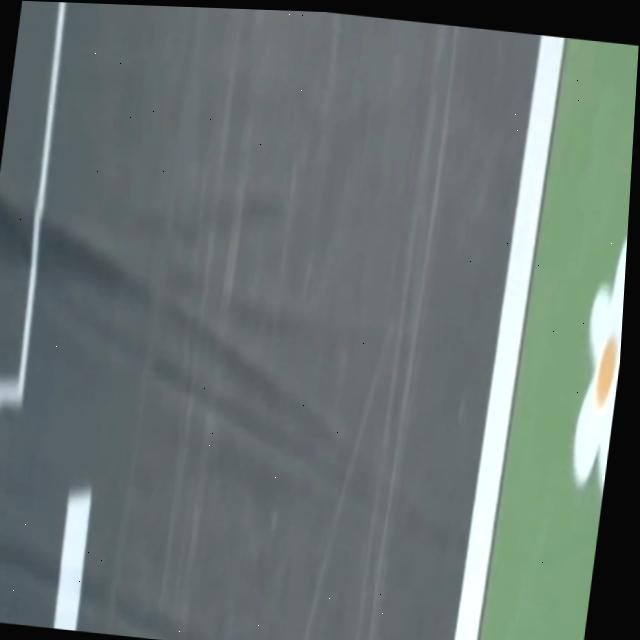center: (53, 486, 90, 630)
right: (453, 35, 564, 640)
